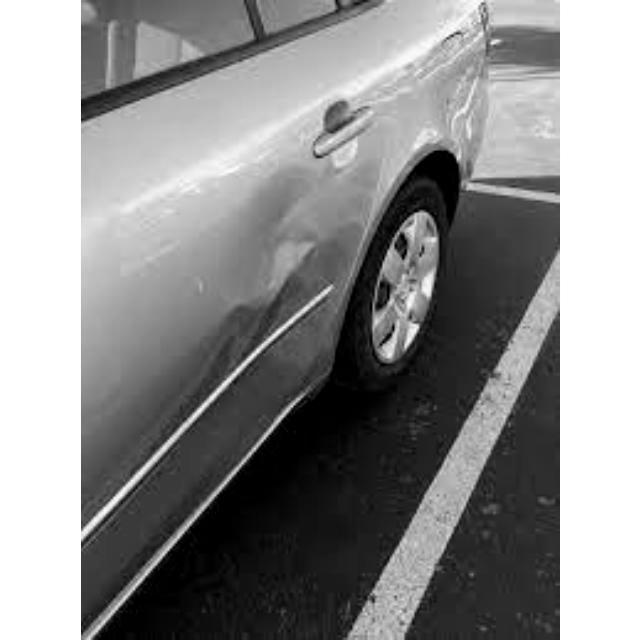doorouter-dent: (83, 60, 362, 492)
